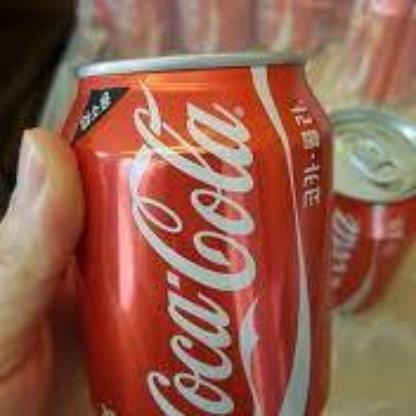Can: (61, 52, 331, 416)
